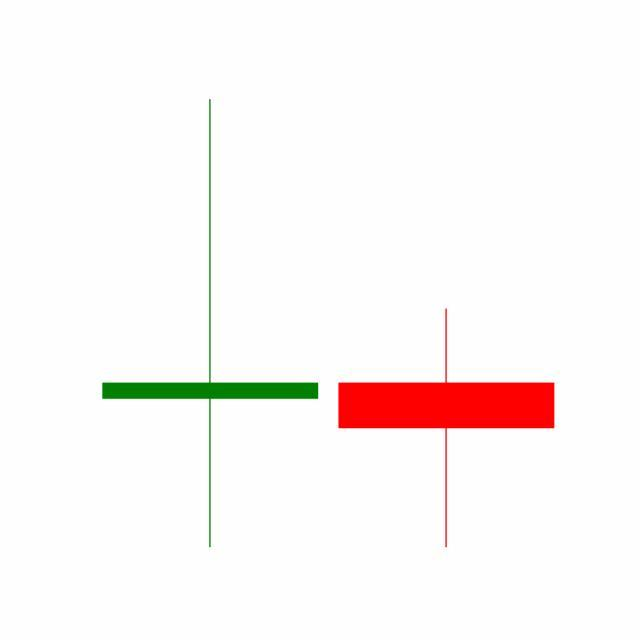Spinning Top: (328, 306, 566, 551)
